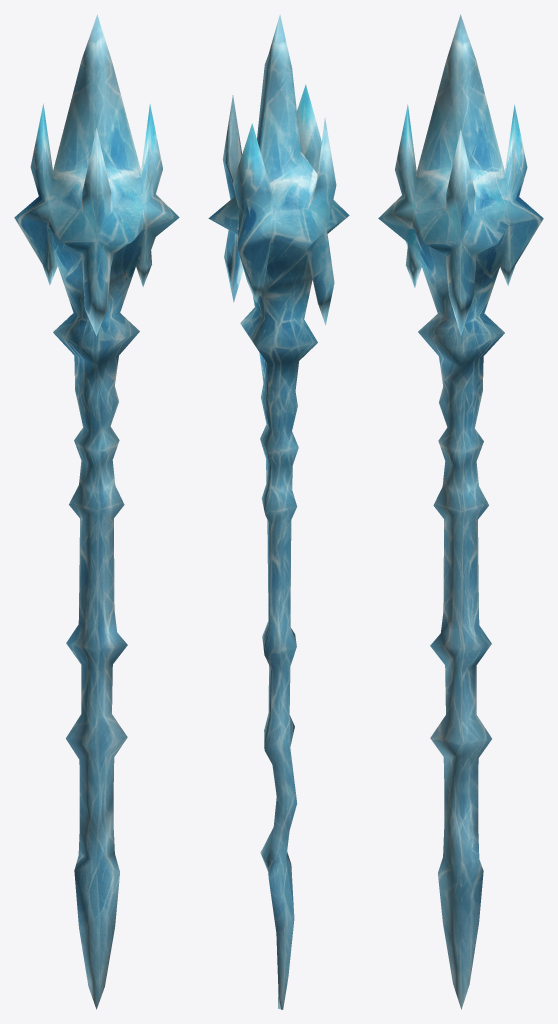
The model's file is Meshy_AI__0828133914_texture.glb.
The picture shows the model from 3 angles, left to right: view 1: azimuth 90°, elevation 25°; view 2: azimuth 150°, elevation 25°; view 3: azimuth 270°, elevation 25°; orthographic projection.
Parts seen in each view (by area): view 1: mesh_node; view 2: mesh_node; view 3: mesh_node.
Part boxes in pixels (left/top/right/bottom): mesh_node: left=14, top=14, right=179, bottom=1009; mesh_node: left=208, top=14, right=349, bottom=1009; mesh_node: left=378, top=14, right=543, bottom=1009.
Bounding box in the file's own units: 0.2388 × 2 × 0.3018.
1 material, 1 textured.
